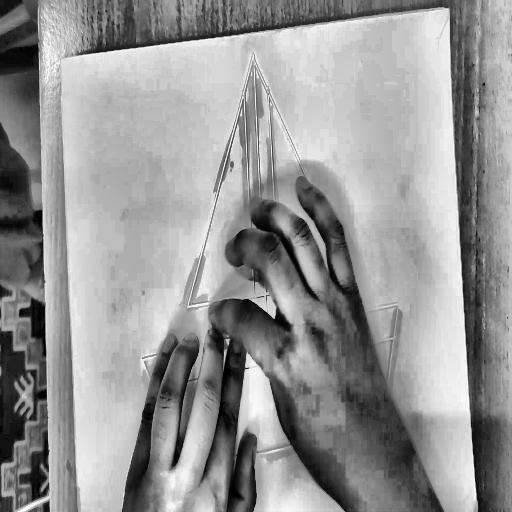boat: (121, 28, 412, 479)
top_left: (59, 56, 64, 64)
top_right: (445, 2, 455, 19)
